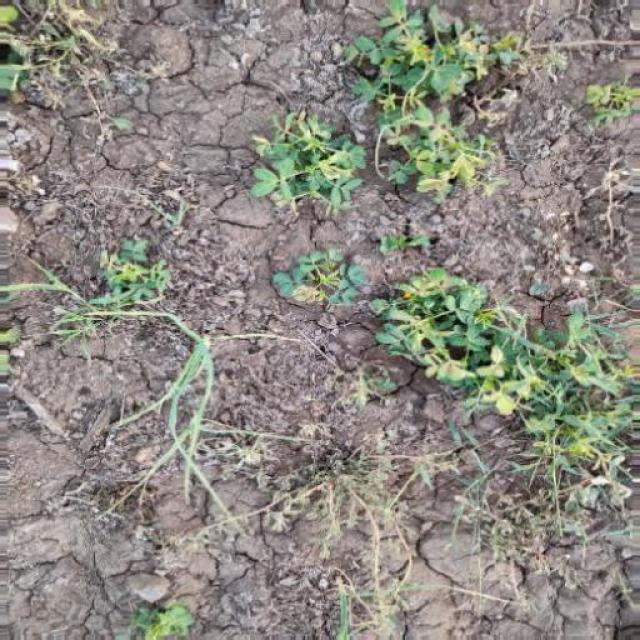weed: (195, 8, 637, 240), (274, 254, 640, 498), (42, 234, 254, 640)
